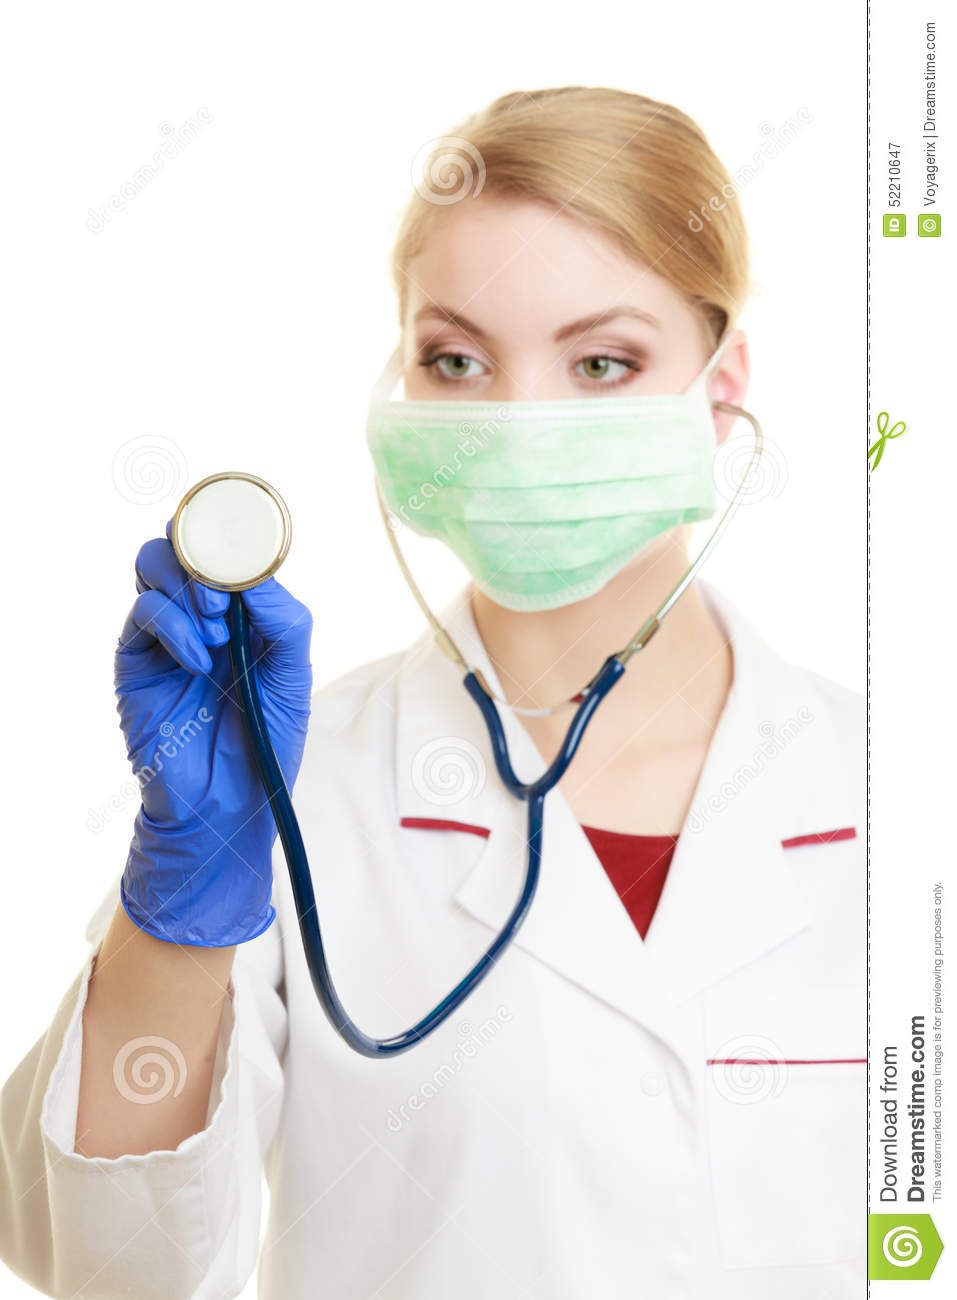mask: (356, 393, 716, 613)
